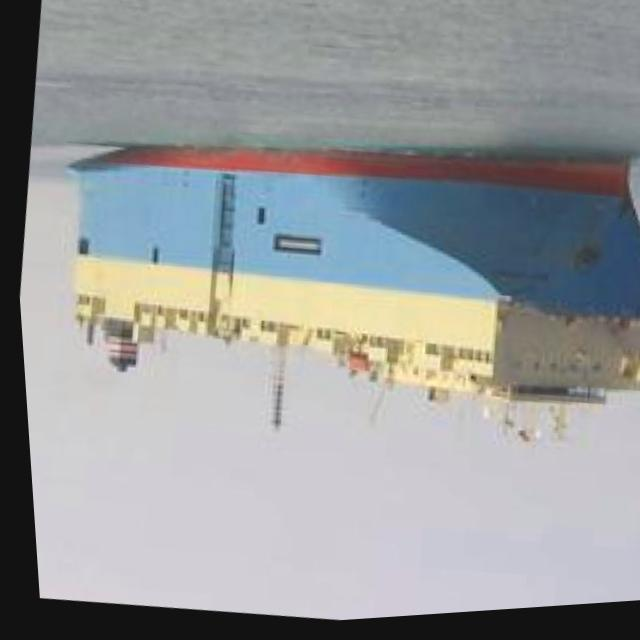ship2: (63, 146, 640, 443)
